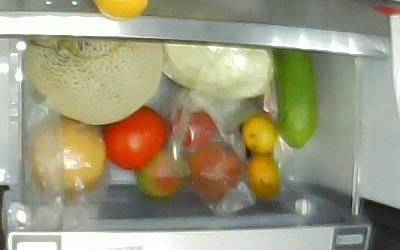cabbage: (161, 42, 275, 99)
melon: (28, 37, 163, 124)
pear_vinyl: (33, 117, 106, 196)
prune_vinyl: (168, 106, 216, 149)
tangerine: (247, 156, 280, 199), (242, 114, 276, 154)
tomato: (107, 106, 166, 170), (135, 145, 179, 198)
tomato_vinyl: (188, 142, 241, 202)
zucchini: (275, 43, 314, 147)
